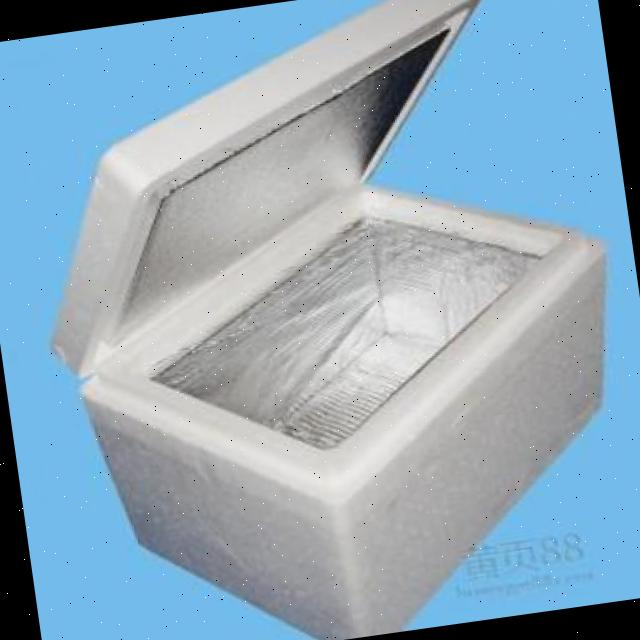styrofoam: (5, 0, 640, 640)
